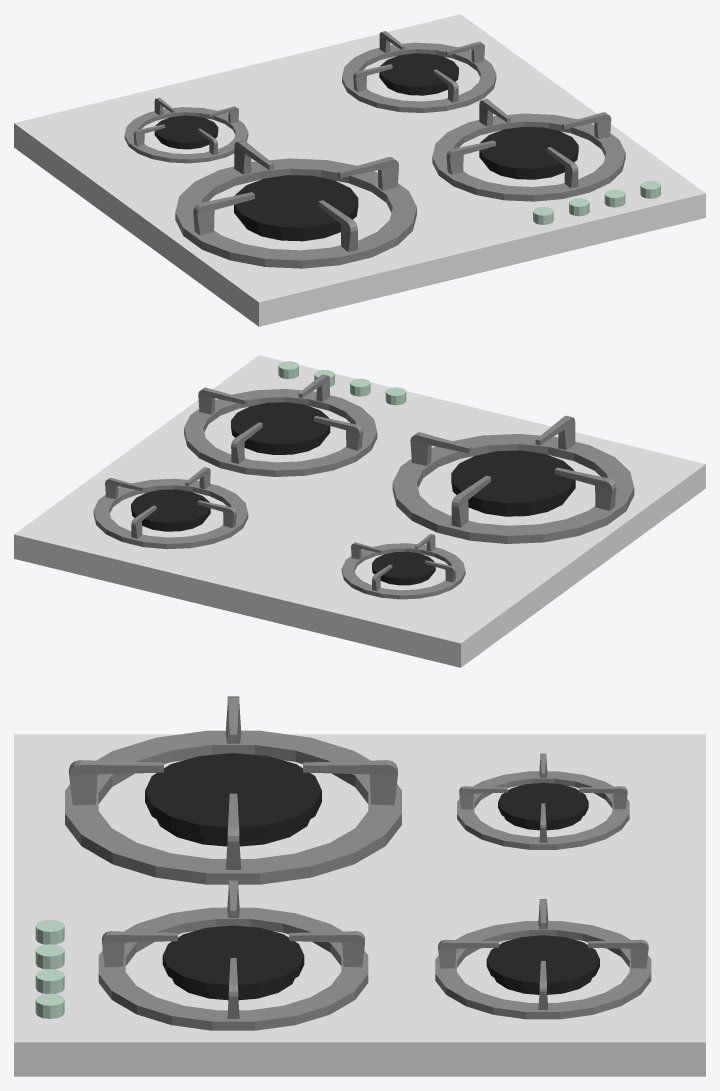
File: asset_ocak_dortlu.fbx
The picture shows the model from 3 angles, top to bottom: view 1: azimuth 30°, elevation 25°; view 2: azimuth 150°, elevation 25°; view 3: azimuth 270°, elevation 25°; orthographic projection. The views are drawn at different scales.
Parts seen in each view (by area): view 1: ocak_dörtlü; view 2: ocak_dörtlü; view 3: ocak_dörtlü.
Boxes of the visible parts, bbox=[...] form: ocak_dörtlü: bbox=[14, 14, 705, 326]; ocak_dörtlü: bbox=[14, 355, 705, 667]; ocak_dörtlü: bbox=[14, 696, 705, 1076].
Bounding box in the file's own units: 115 × 14.89 × 109.
Materials: 4 (4 with a texture image).
